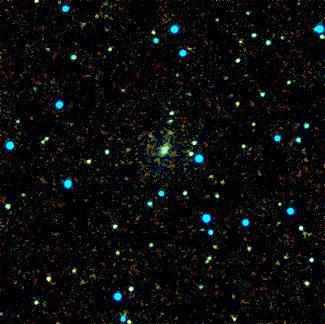star: (113, 138, 143, 168)
